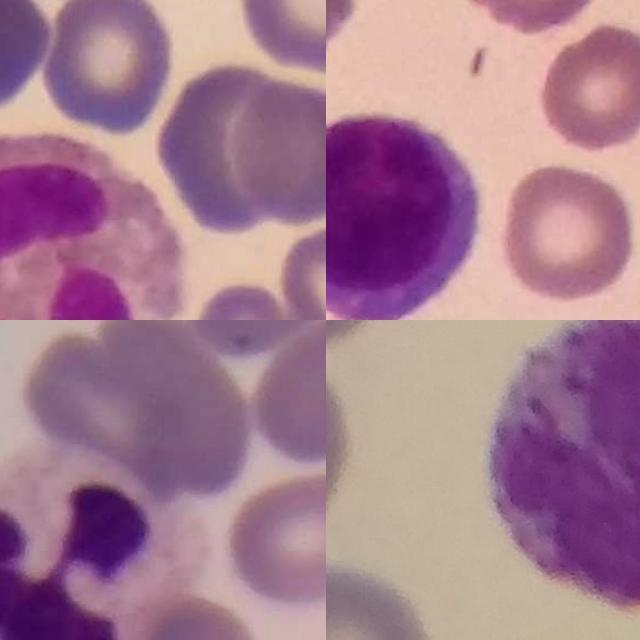Basophil: (488, 320, 640, 613)
Eosinophil: (0, 137, 186, 320)
Lymphocyte: (326, 116, 479, 320)
Neutrophil: (0, 448, 180, 640)
